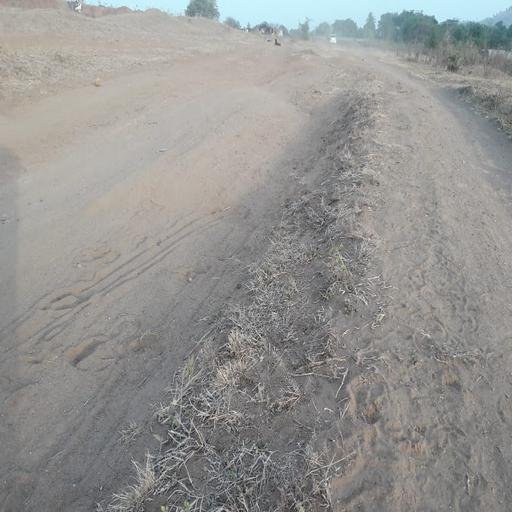vehicle_track: (0, 80, 324, 510), (357, 53, 510, 345)
